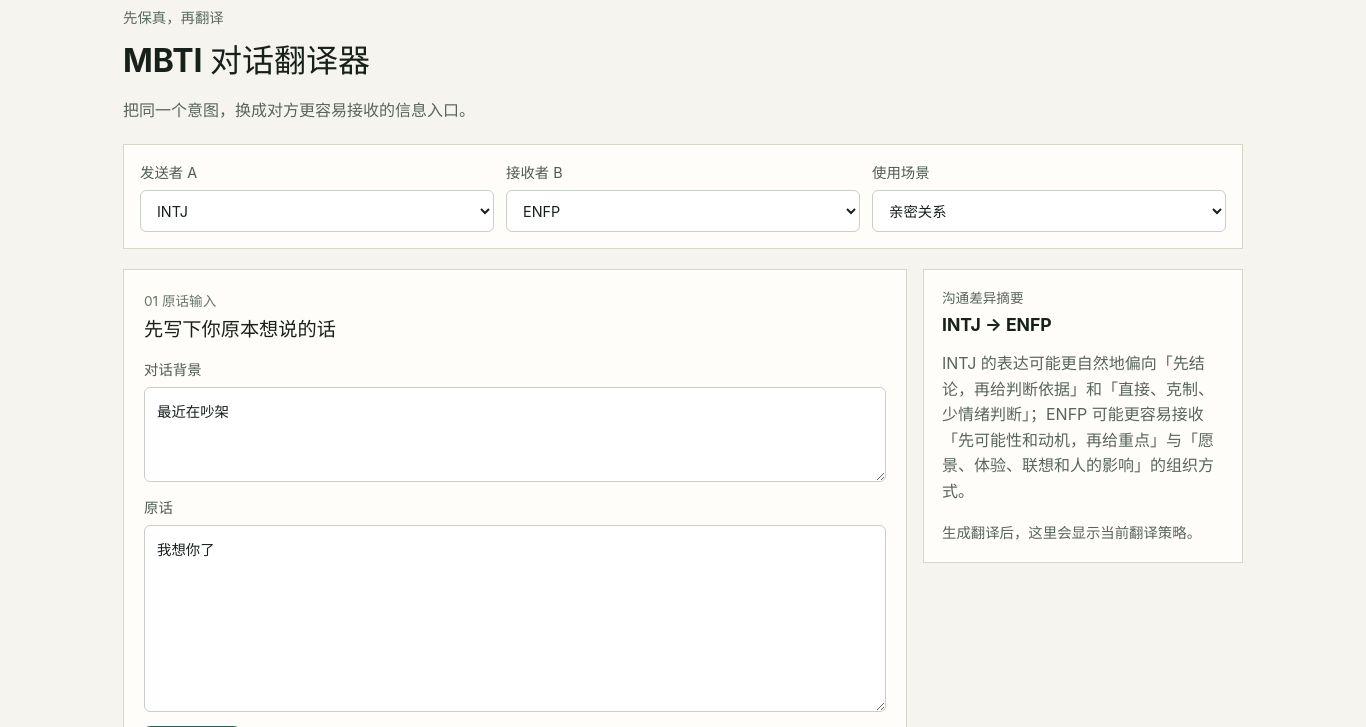
lets the user configure direction and type an original message
The image size is (1366, 727).
Select "INTJ" in the dropdown labelled "发送者 A" at (317, 211), box x1=140 y1=190 x2=494 y2=232
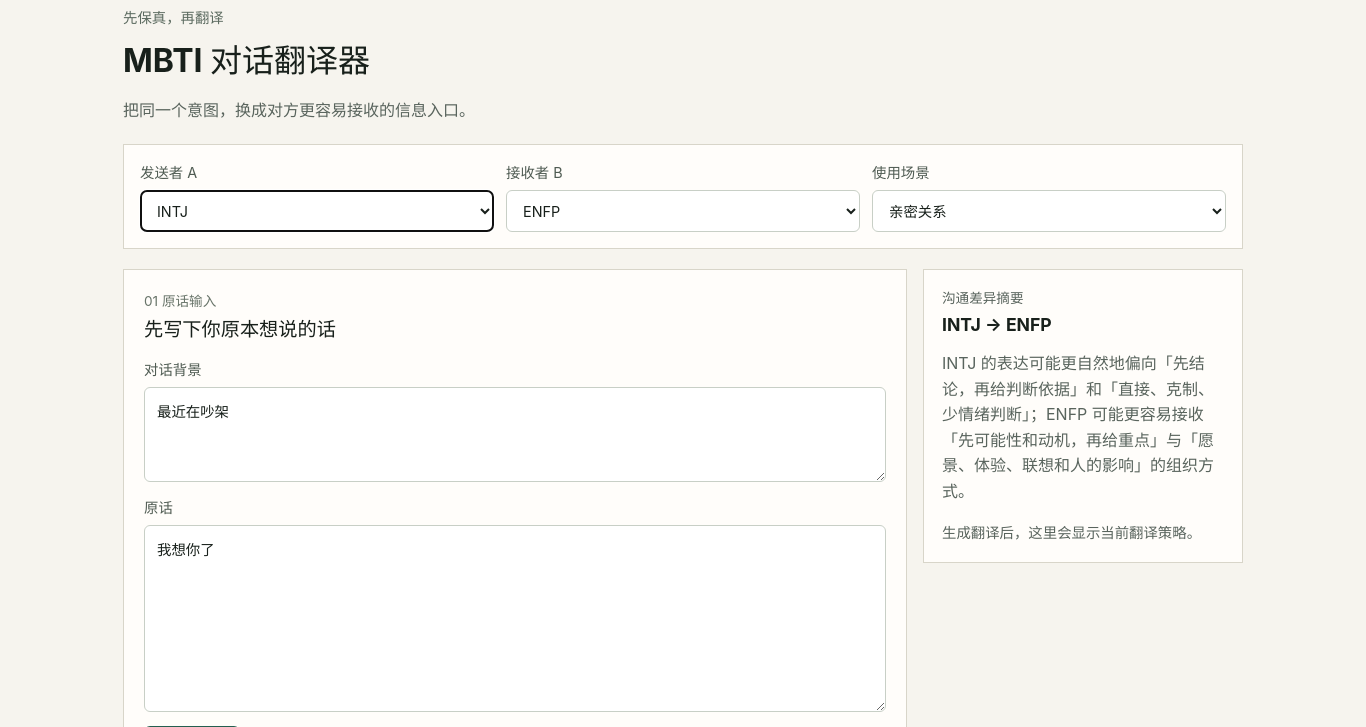
Select "ESFP" in the dropdown labelled "接收者 B" at (683, 211), box x1=506 y1=190 x2=860 y2=232
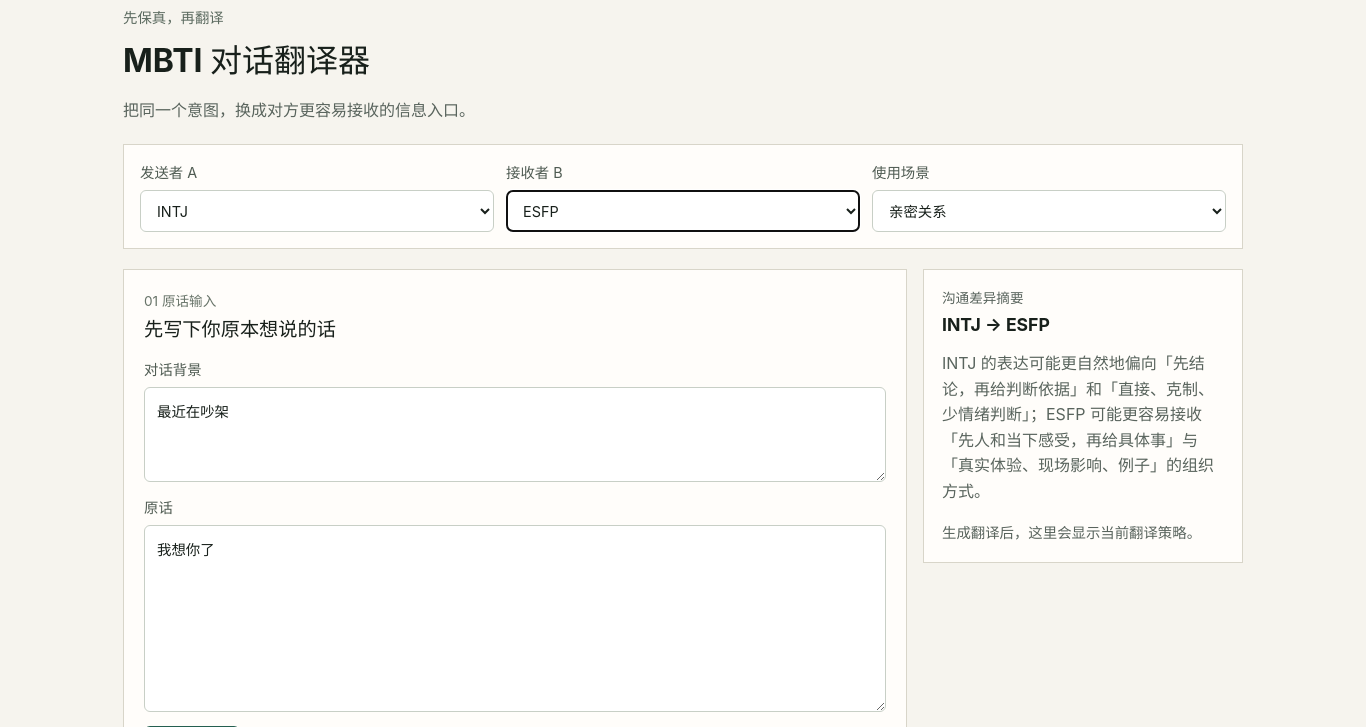
Select "亲密关系" in the dropdown labelled "使用场景" at (1049, 211), box x1=872 y1=190 x2=1226 y2=232
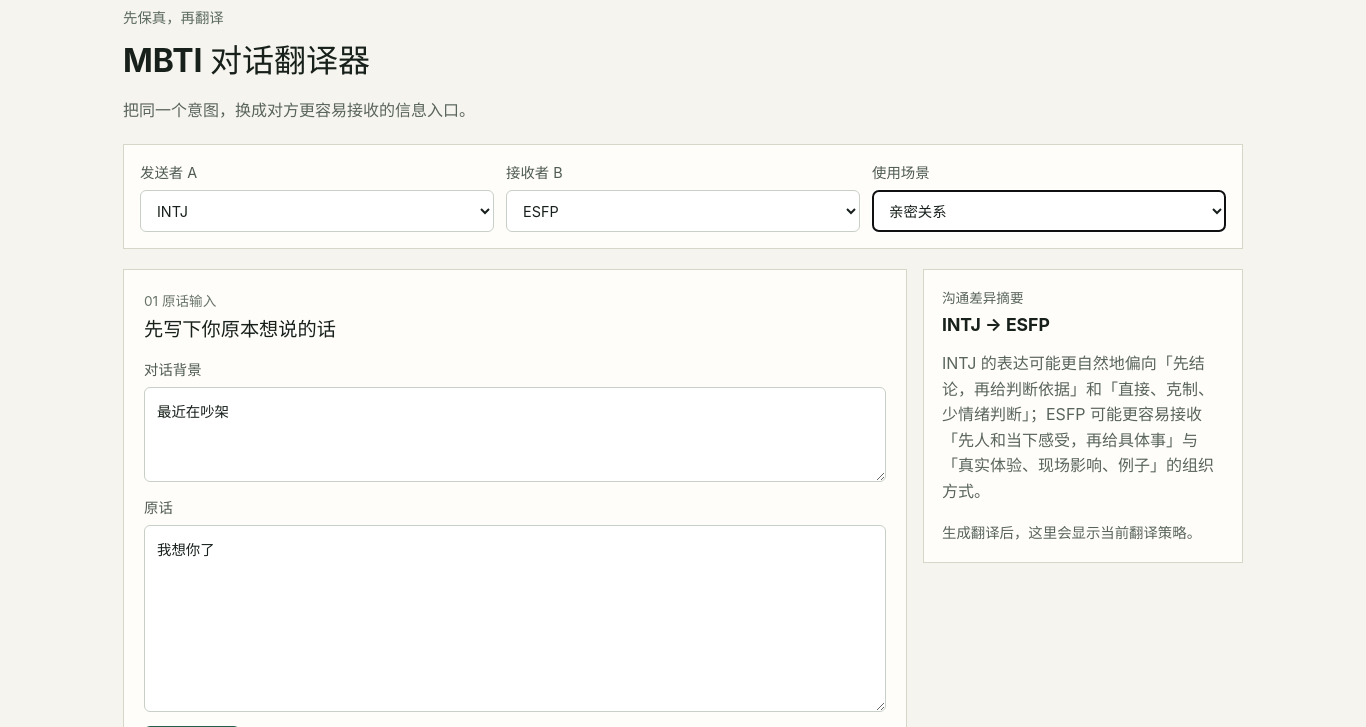
Replace the text in the text box labelled "原话" with "你这样让我很没有安全感。" at (515, 619), box x1=144 y1=525 x2=886 y2=712
(page scrolled)
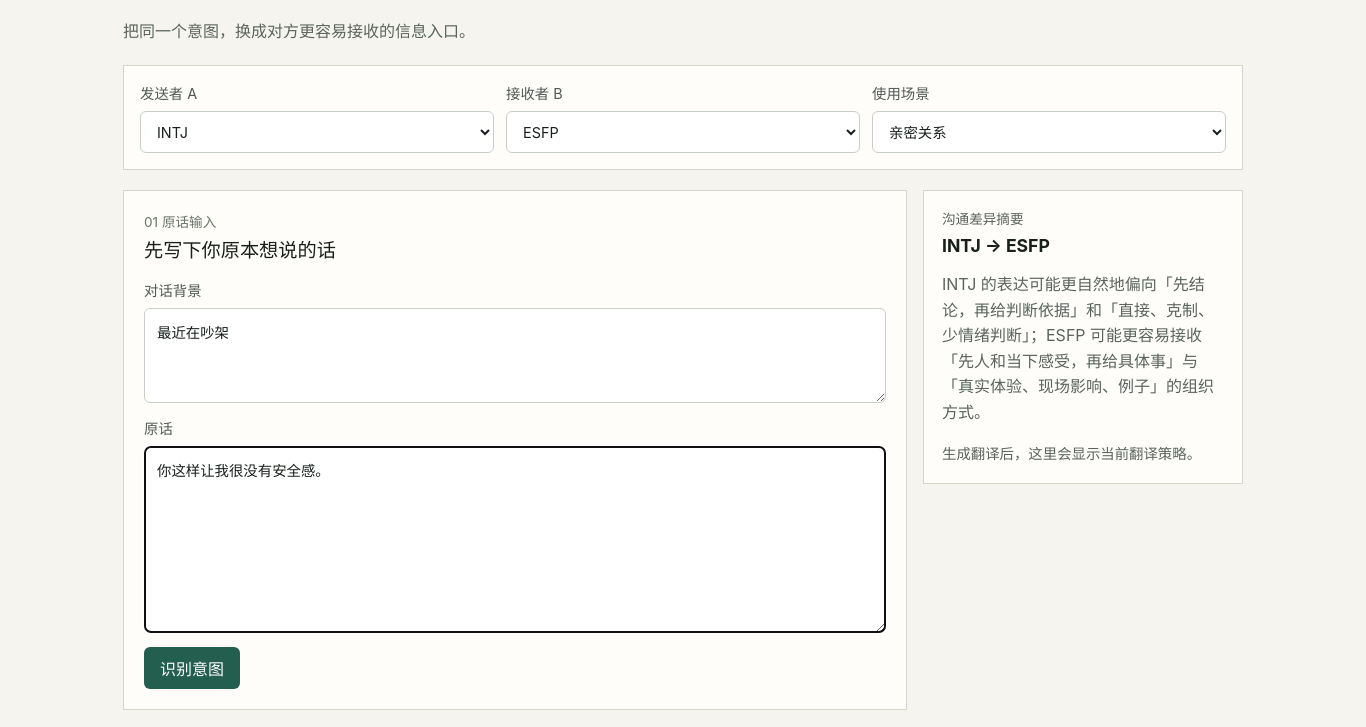
Expected: the button "识别意图" is enabled, x1=144 y1=647 x2=240 y2=689
